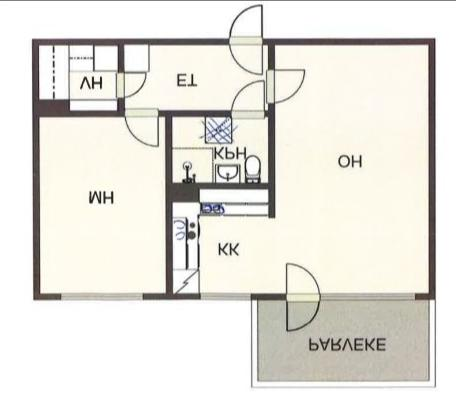door: (282, 260, 322, 302), (264, 67, 308, 104), (283, 294, 322, 332), (229, 80, 267, 119), (123, 112, 162, 148), (231, 4, 266, 44), (228, 37, 264, 75), (116, 72, 151, 101)
window: (56, 290, 148, 303), (317, 291, 421, 301), (196, 289, 255, 303)
